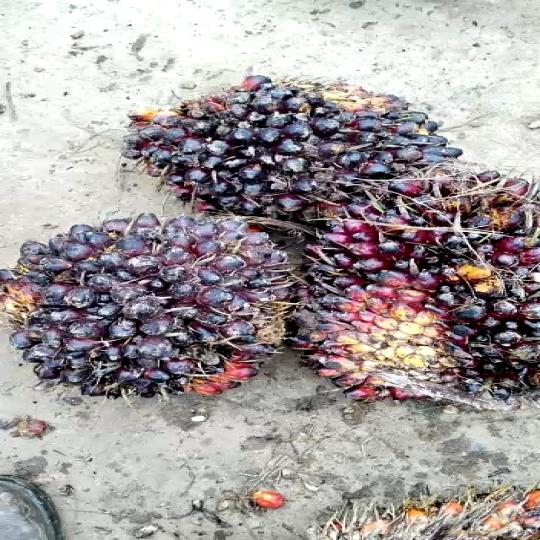kurang masak: (291, 153, 540, 424), (0, 201, 287, 393), (124, 74, 475, 218)
